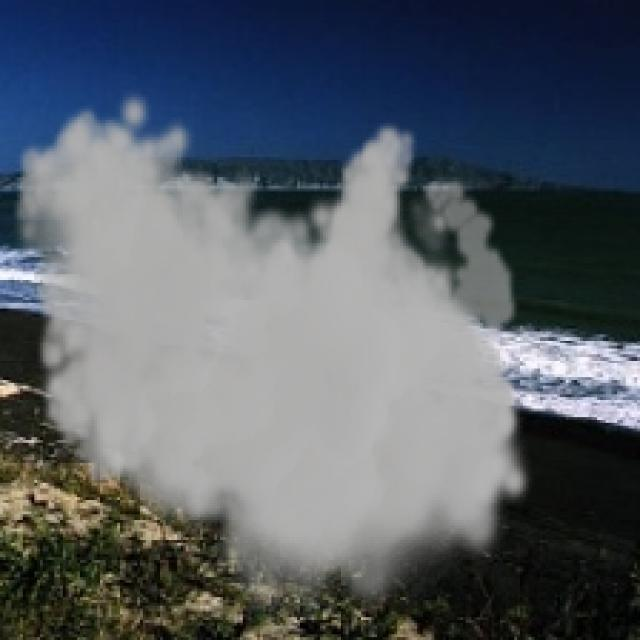smoke: (12, 89, 534, 626)
